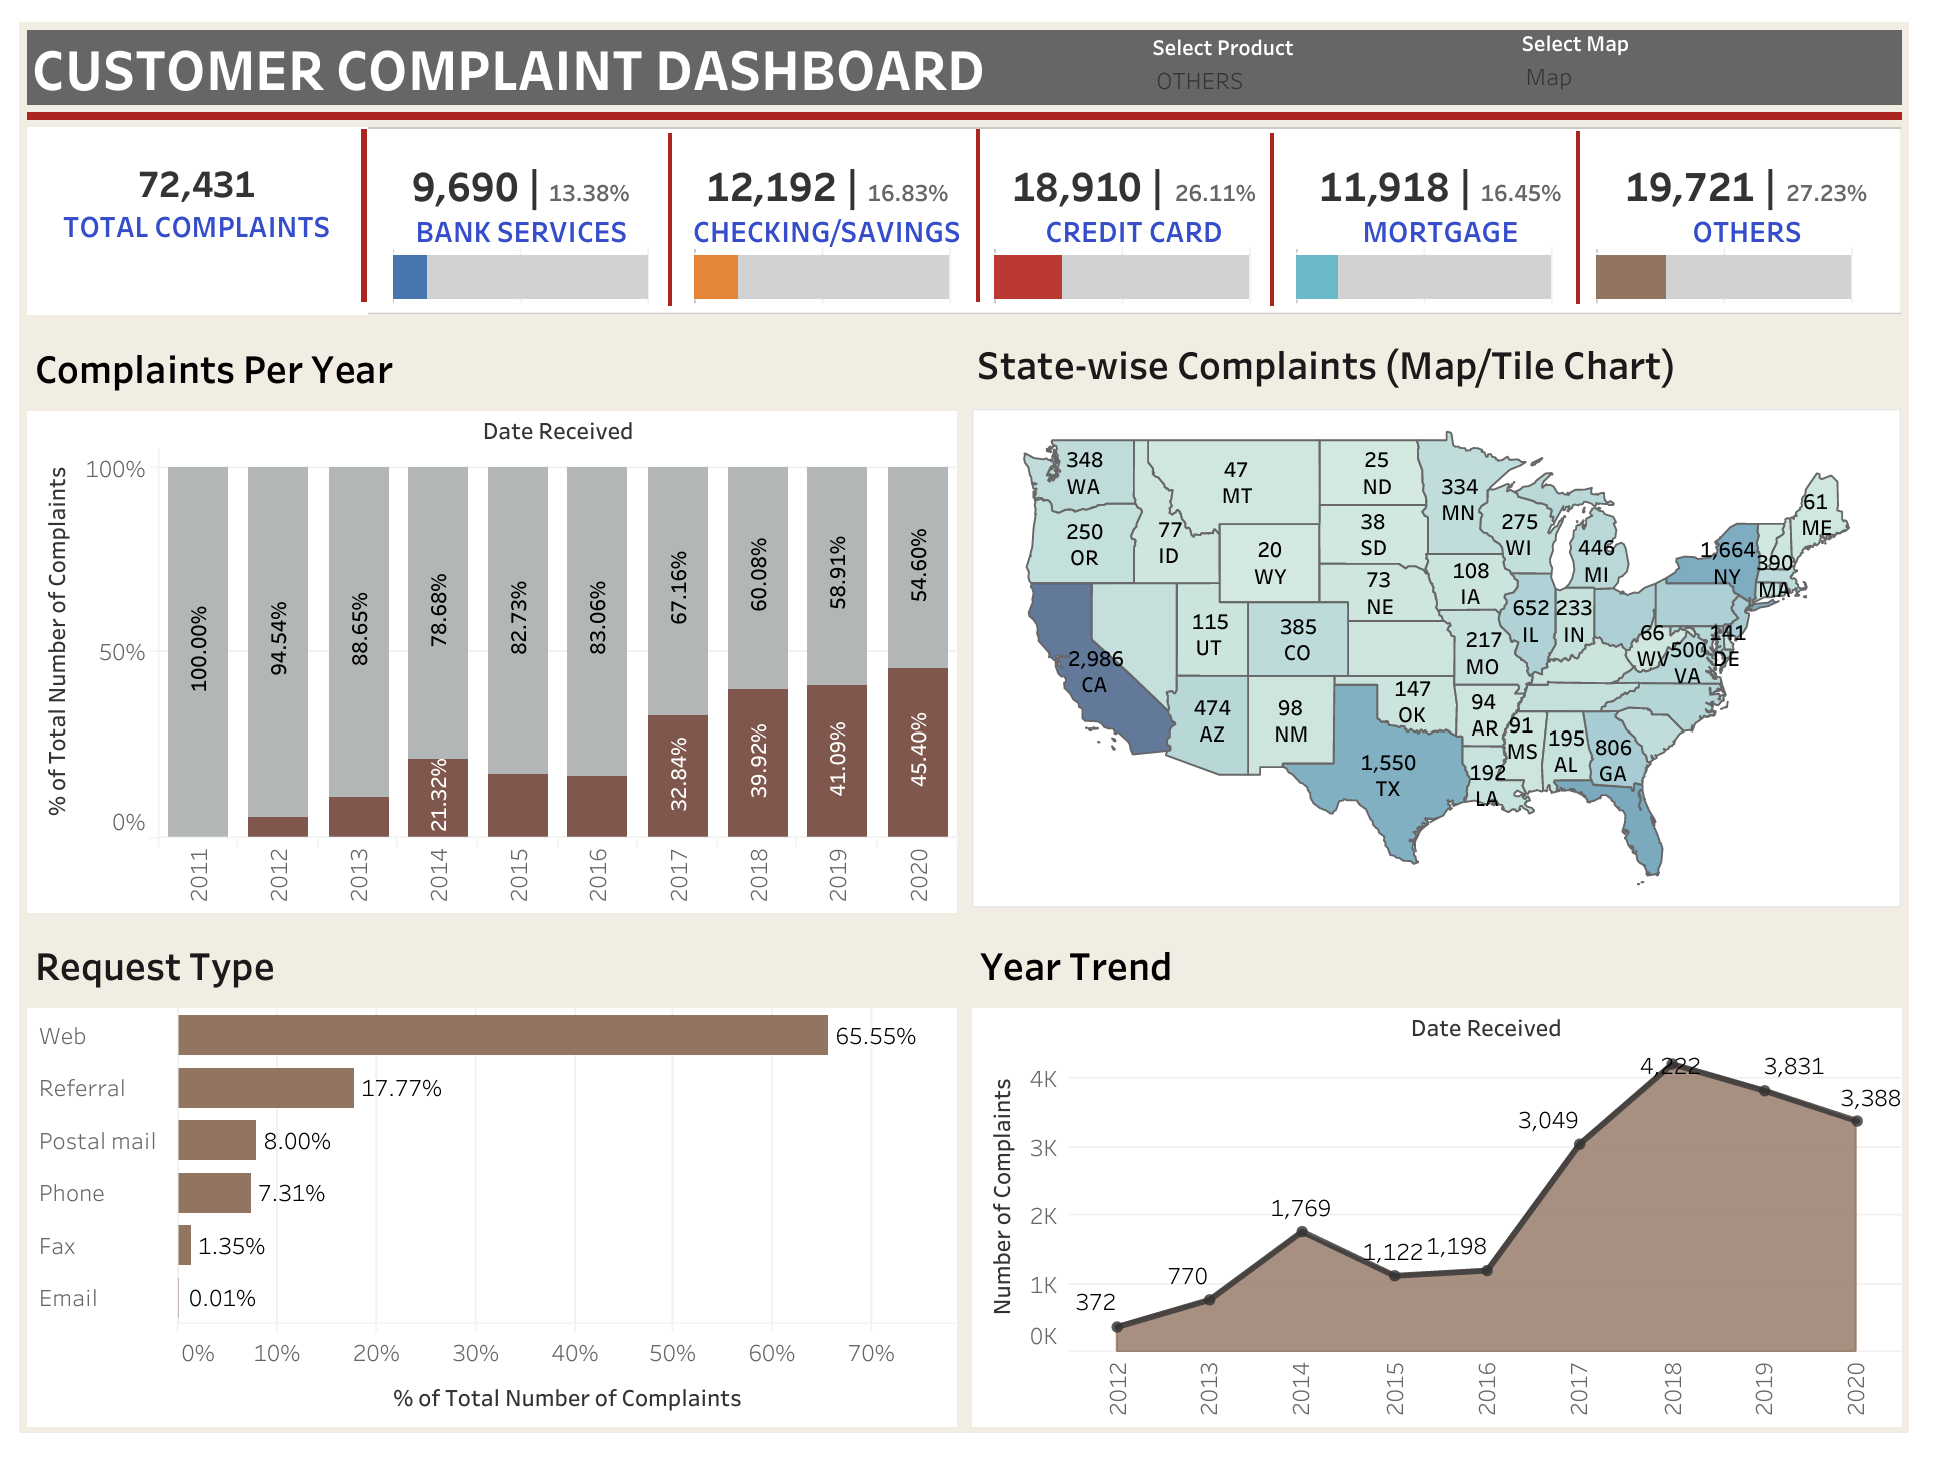

The page's visual inventory and layout, read from the dashboard file:
{"tool":"tableau","page":{"name":"CUSTOMER COMPLAINT DASHBOARD","canvas":[1024,768],"ordinal":0},"visuals":[{"type":"title","box":[8,8,1008,48]},{"type":"parameter","param":"[Parameters].[Parameter 2]","box":[809,9.6,163.8,42.2]},{"type":"parameter","param":"[Parameters].[Parameter 1]","box":[612.4,11.5,163.8,42.2]},{"type":"blank","box":[8,56,1008,4]},{"type":"worksheet","title":"Total KPI","mark":"Automatic","box":[8,60,186,108.2]},{"type":"worksheet","title":"KPI","mark":"Automatic","box":[194,60,822,108.2]},{"type":"blank","box":[190.5,65.3,2,92.2]},{"type":"blank","box":[518.1,65.3,2,92.2]},{"type":"blank","box":[837.6,66.2,2,92.2]},{"type":"blank","box":[354.3,67.2,2,92.2]},{"type":"blank","box":[674.8,67.2,2,92.2]},{"type":"worksheet","title":"% of Complaints","mark":"Bar","cols":["Calculation_2478387206846279683","Number of Complaints"],"box":[206.8,127.7,802.8,29.8]},{"type":"worksheet","title":"Complaints Per Year","mark":"Bar","cols":["Date Received"],"box":[8,168,504,318]},{"type":"worksheet","title":"Map Bank Services","mark":"Multipolygon","box":[512,168,504,1]},{"type":"worksheet","title":"Map All","mark":"Multipolygon","box":[512,169,504,1]},{"type":"worksheet","title":"Map Credit","mark":"Multipolygon","box":[512,170,504,1]},{"type":"text","box":[512,171,504,39]},{"type":"worksheet","title":"Map Others","mark":"Multipolygon","box":[512,210,504,274]},{"type":"worksheet","title":"Map Mortgage","mark":"Multipolygon","box":[512,484,504,1]},{"type":"worksheet","title":"Map Checking/savings","mark":"Multipolygon","box":[512,485,504,1]},{"type":"worksheet","title":"Request Type","mark":"Automatic","rows":["Submitted via"],"box":[8,486,504,274]},{"type":"worksheet","title":"Year Trend","mark":"Area","rows":["Number of Complaints","Number of Complaints"],"cols":["Date Received"],"box":[512,486,504,274]}]}

Visuals, with their boxes in screenshot pixels (x1, y1, x2, y2), scaled from the page's 1024x768 canvas onto the 1934x1458 screenshot:
title: box(15, 15, 1919, 106)
parameter: box(1528, 18, 1837, 98)
parameter: box(1157, 22, 1466, 102)
blank: box(15, 106, 1919, 114)
"Total KPI" worksheet: box(15, 114, 366, 319)
"KPI" worksheet: box(366, 114, 1919, 319)
blank: box(360, 124, 364, 299)
blank: box(979, 124, 982, 299)
blank: box(1582, 126, 1586, 301)
blank: box(669, 128, 673, 303)
blank: box(1274, 128, 1278, 303)
"% of Complaints" worksheet (Bar marks): box(391, 242, 1907, 299)
"Complaints Per Year" worksheet (Bar marks): box(15, 319, 967, 923)
"Map Bank Services" worksheet (Multipolygon marks): box(967, 319, 1919, 321)
"Map All" worksheet (Multipolygon marks): box(967, 321, 1919, 323)
"Map Credit" worksheet (Multipolygon marks): box(967, 323, 1919, 325)
text: box(967, 325, 1919, 399)
"Map Others" worksheet (Multipolygon marks): box(967, 399, 1919, 919)
"Map Mortgage" worksheet (Multipolygon marks): box(967, 919, 1919, 921)
"Map Checking/savings" worksheet (Multipolygon marks): box(967, 921, 1919, 923)
"Request Type" worksheet: box(15, 923, 967, 1443)
"Year Trend" worksheet (Area marks): box(967, 923, 1919, 1443)
